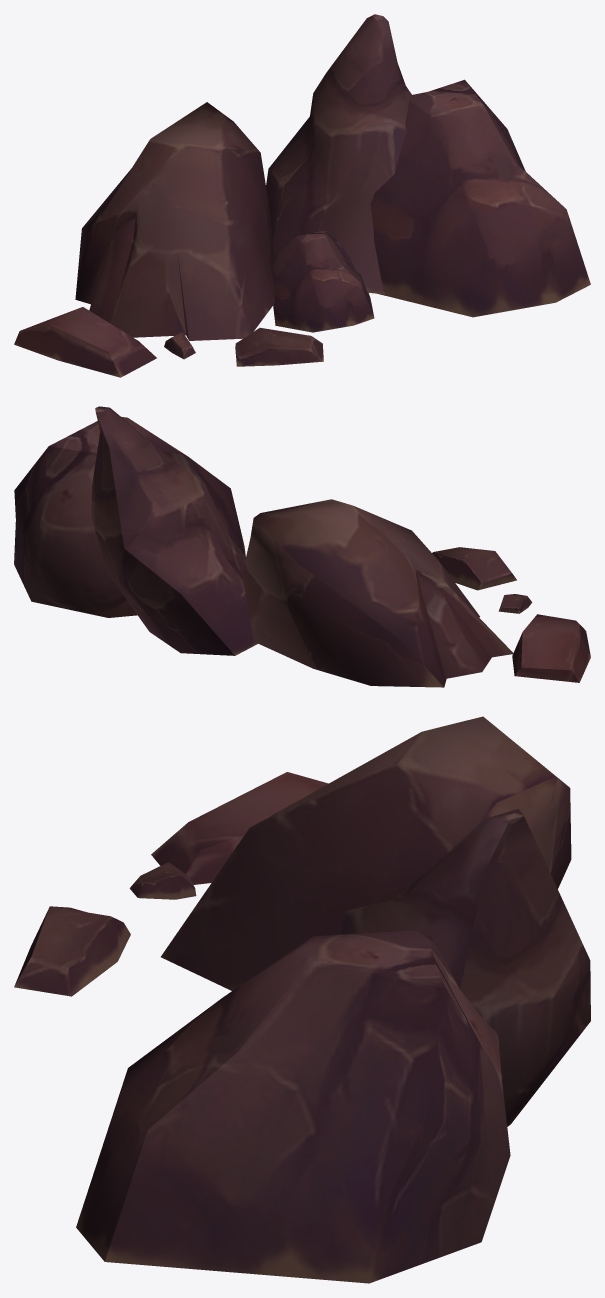
Rendered from xbw_shiqiang_05.FBX.
3 renders of one model, top to bottom at view 1: azimuth 30°, elevation 25°; view 2: azimuth 150°, elevation 25°; view 3: azimuth 270°, elevation 25°, orthographic. The views are drawn at different scales.
Parts seen in each view (by area): view 1: xbw_shiqiang_05; view 2: xbw_shiqiang_05; view 3: xbw_shiqiang_05.
Part boxes in pixels (box(x1,y1,x2,y2)): xbw_shiqiang_05: box(14, 14, 590, 377); xbw_shiqiang_05: box(14, 406, 590, 687); xbw_shiqiang_05: box(14, 716, 590, 1283).
Size of the model in its own units: 8.18 by 3.31 by 4.37.
